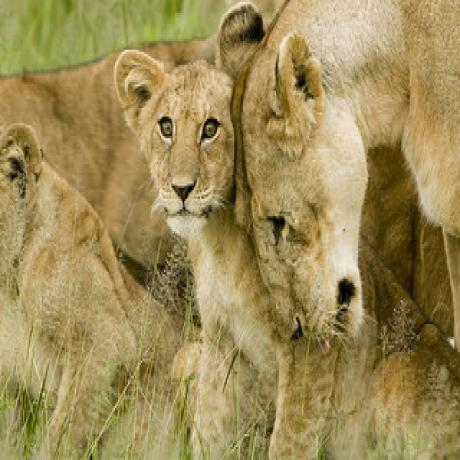Lion: (241, 0, 460, 341), (114, 51, 266, 367), (0, 121, 126, 417)
